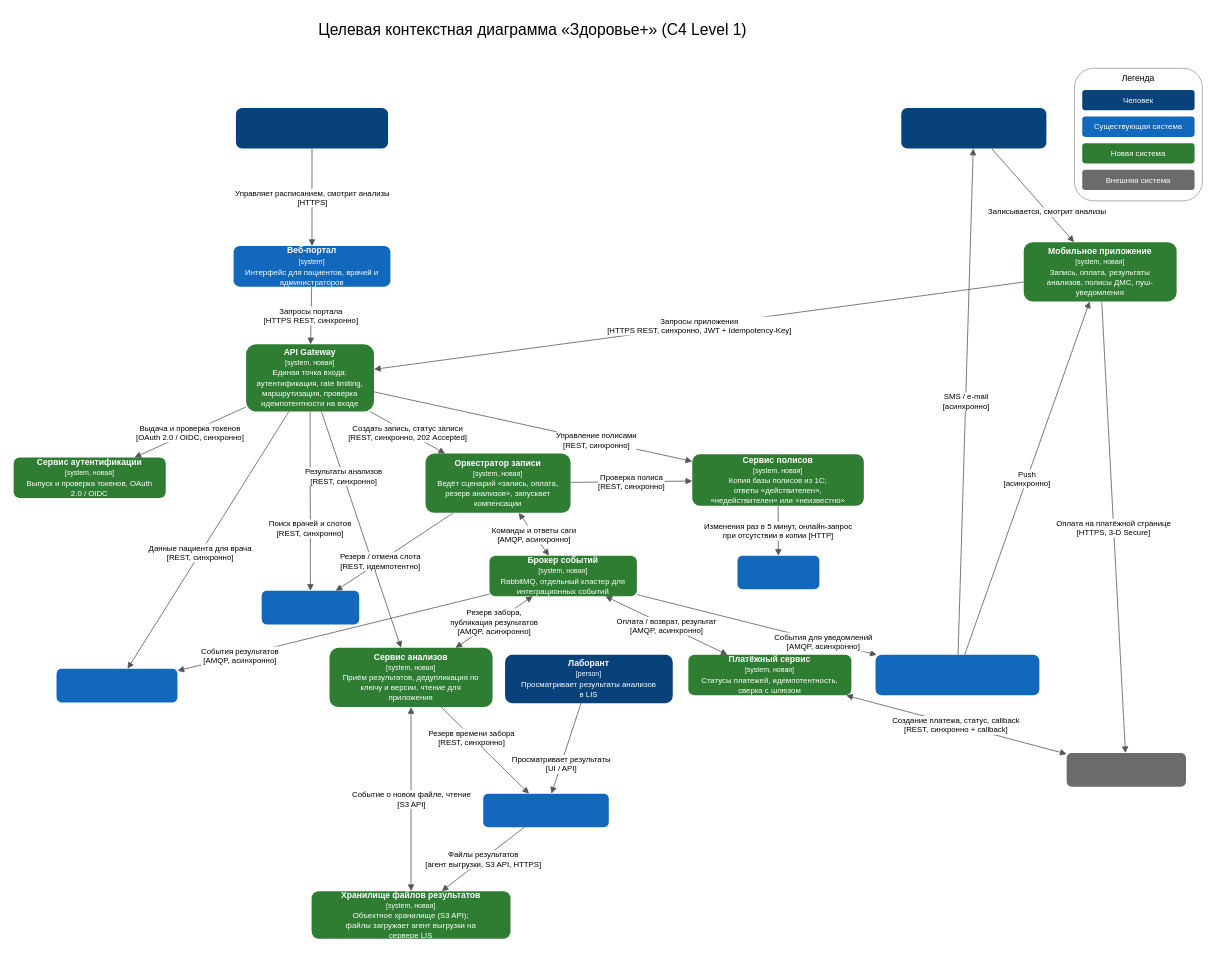
Some shapes in this 1216 by 954 pixel diagram are drawn without their labels. Here are the shapes that lost their labels. From the top down, the centre of each, then its label:
the point at 312,128: Врач [person] Управляет расписанием, просматривает анализы пациентов
the point at 973,128: Пациент [person] Записывается на приём, смотрит результаты анализов
the point at 778,572: 1С: Полисы [system] HTTP-шлюз
the point at 310,607: Расписание [system] REST API, PostgreSQL
the point at 116,685: CRM [system] Микросервис на Java, REST
the point at 957,674: Уведомления [system] RabbitMQ и внешние провайдеры push / SMS / e-mail
the point at 1126,769: Платёжный шлюз [system, внешняя] Внешний REST API
the point at 545,810: LIS (Лабораторная) [system] SOAP / FTP / REST API
